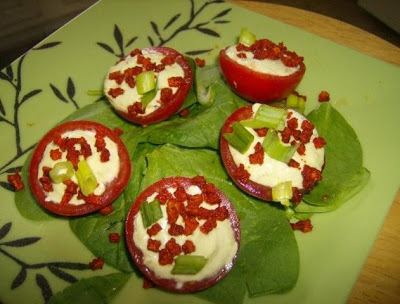bacon: (162, 184, 215, 228), (302, 119, 319, 143)
